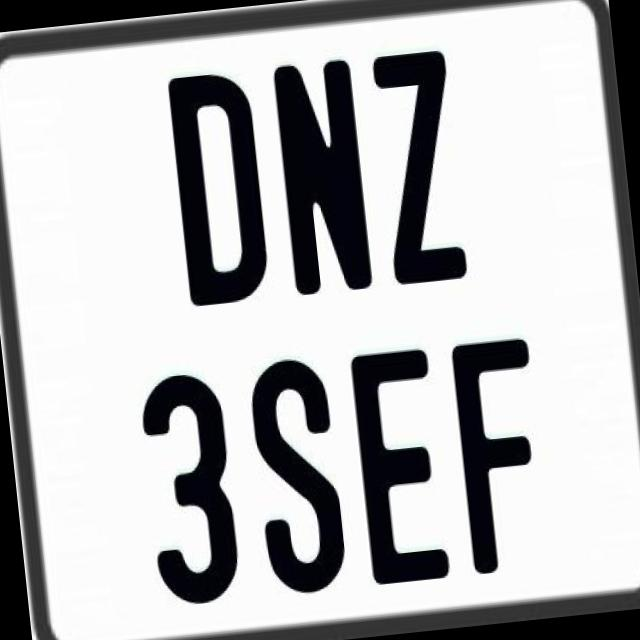3: (136, 371, 246, 612)
D: (165, 67, 274, 306)
E: (344, 343, 448, 589)
F: (448, 336, 552, 572)
N: (271, 56, 374, 304)
S: (242, 354, 348, 596)
Z: (367, 49, 469, 286)
